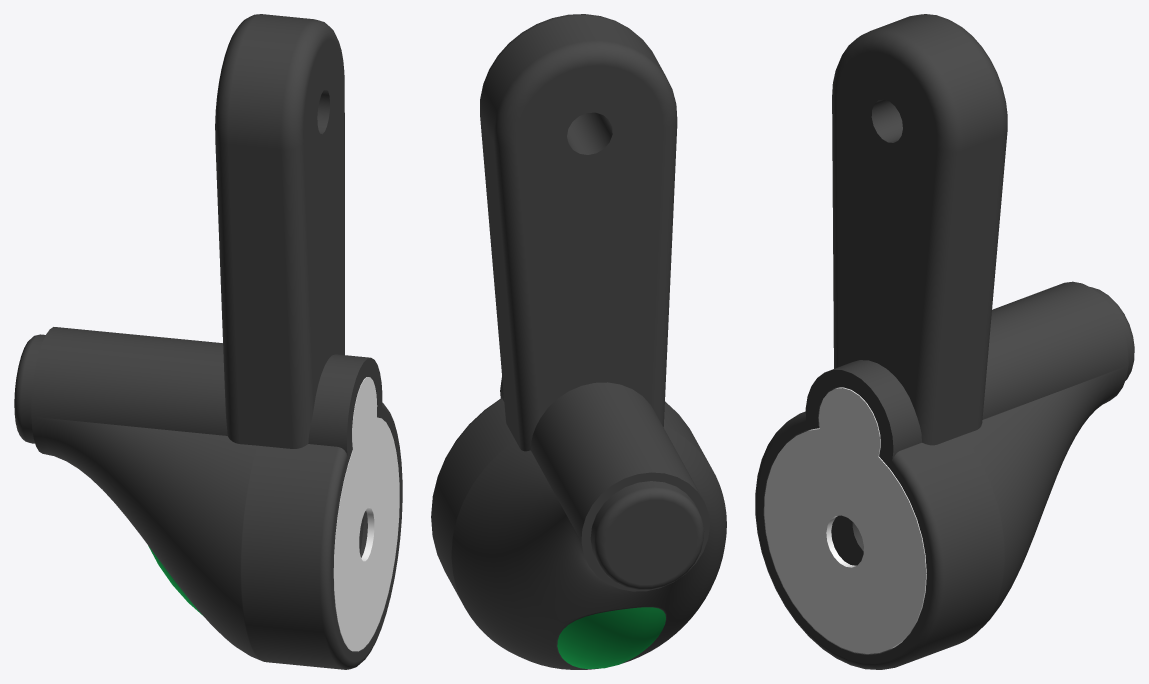
The model's file is Leg.gltf.
The picture shows the model from 3 angles, left to right: view 1: azimuth 30°, elevation 25°; view 2: azimuth 150°, elevation 25°; view 3: azimuth 270°, elevation 25°; orthographic projection. The views are drawn at different scales.
Visible parts, largest first — view 1: Solid1; view 2: Solid1; view 3: Solid1.
Boxes of the visible parts, x1,y1,x2,y2 form: Solid1: (14,14,402,669); Solid1: (431,14,726,669); Solid1: (755,14,1134,669).
Size of the model in its own units: 4.09 by 7.51 by 4.19.
